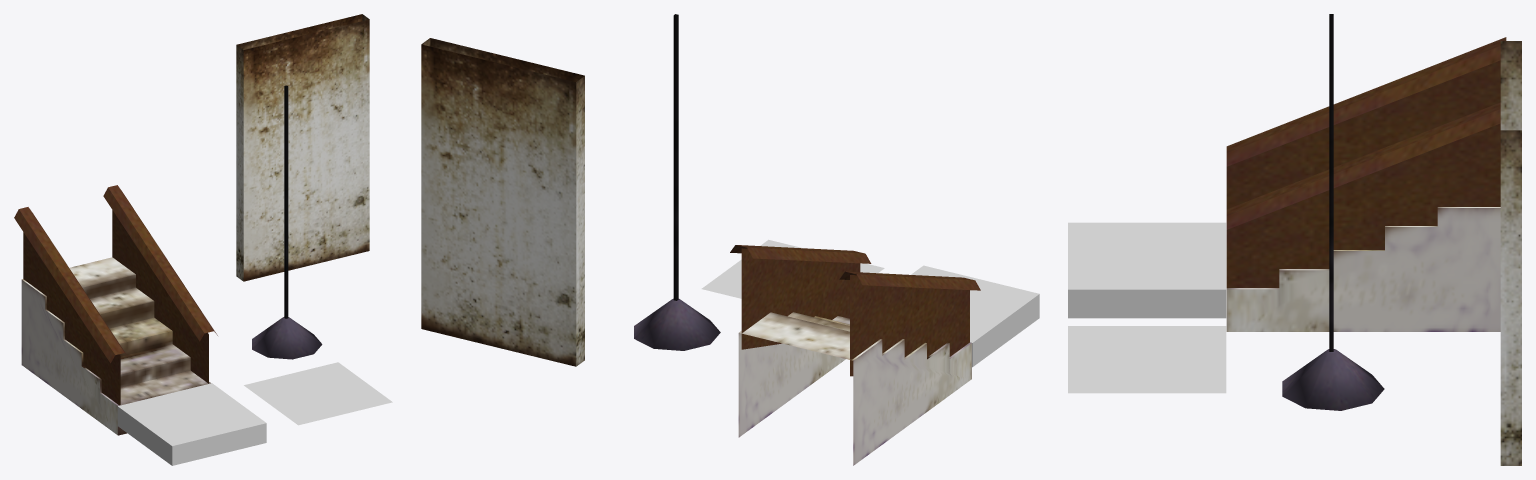
File: fatherApartmentsBasementEnvironment.fbx
3 views of the same model, side by side, from view 1: azimuth 30°, elevation 25°; view 2: azimuth 150°, elevation 25°; view 3: azimuth 270°, elevation 25° (orthographic). The views are drawn at different scales.
Visible parts, largest first — view 1: BasementStairEnterWall.001, BasementStairEnter, BasementStairEnterFloor, BasementStairGridMetalFloor, BasementLightLamp; view 2: BasementStairEnterWall.001, BasementStairEnter, BasementLightLamp, BasementStairEnterFloor, BasementStairGridMetalFloor; view 3: BasementStairEnter, BasementStairEnterFloor, BasementStairGridMetalFloor, BasementStairEnterWall.001, BasementLightLamp.
Boxes of the visible parts, x1=… form: BasementStairEnterWall.001: x1=236, y1=14, x2=369, y2=281; BasementStairEnter: x1=14, y1=185, x2=217, y2=435; BasementStairEnterFloor: x1=117, y1=383, x2=266, y2=465; BasementStairGridMetalFloor: x1=244, y1=362, x2=392, y2=425; BasementLightLamp: x1=252, y1=85, x2=322, y2=359; BasementStairEnterWall.001: x1=421, y1=38, x2=584, y2=366; BasementStairEnter: x1=730, y1=245, x2=980, y2=465; BasementLightLamp: x1=634, y1=14, x2=720, y2=350; BasementStairEnterFloor: x1=911, y1=265, x2=1039, y2=367; BasementStairGridMetalFloor: x1=701, y1=239, x2=884, y2=298; BasementStairEnter: x1=1226, y1=37, x2=1506, y2=331; BasementStairEnterFloor: x1=1068, y1=222, x2=1226, y2=318; BasementStairGridMetalFloor: x1=1068, y1=326, x2=1226, y2=393; BasementStairEnterWall.001: x1=1500, y1=41, x2=1521, y2=465; BasementLightLamp: x1=1282, y1=14, x2=1384, y2=410.
Bounding box in the file's own units: 1122 × 827 × 860.
